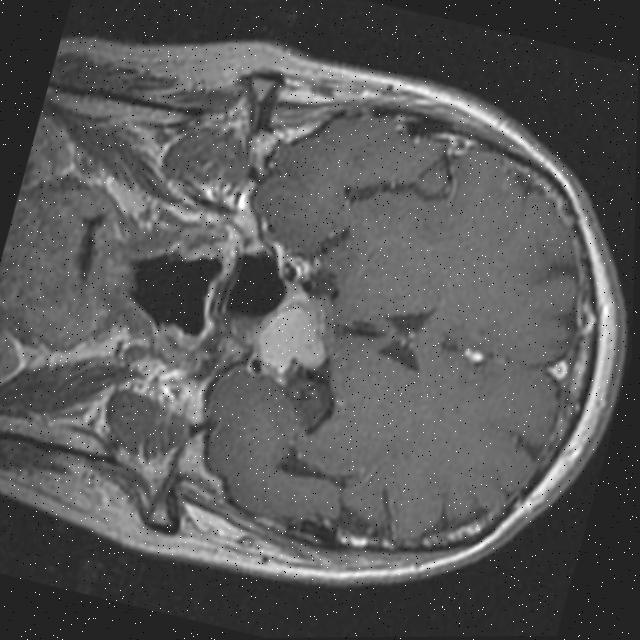Pituitary: (248, 284, 340, 378)
